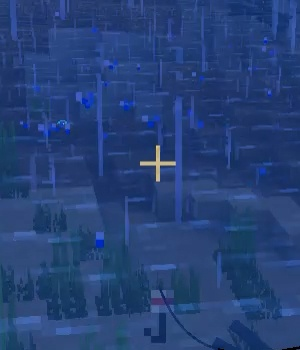down: (142, 286, 175, 342)
